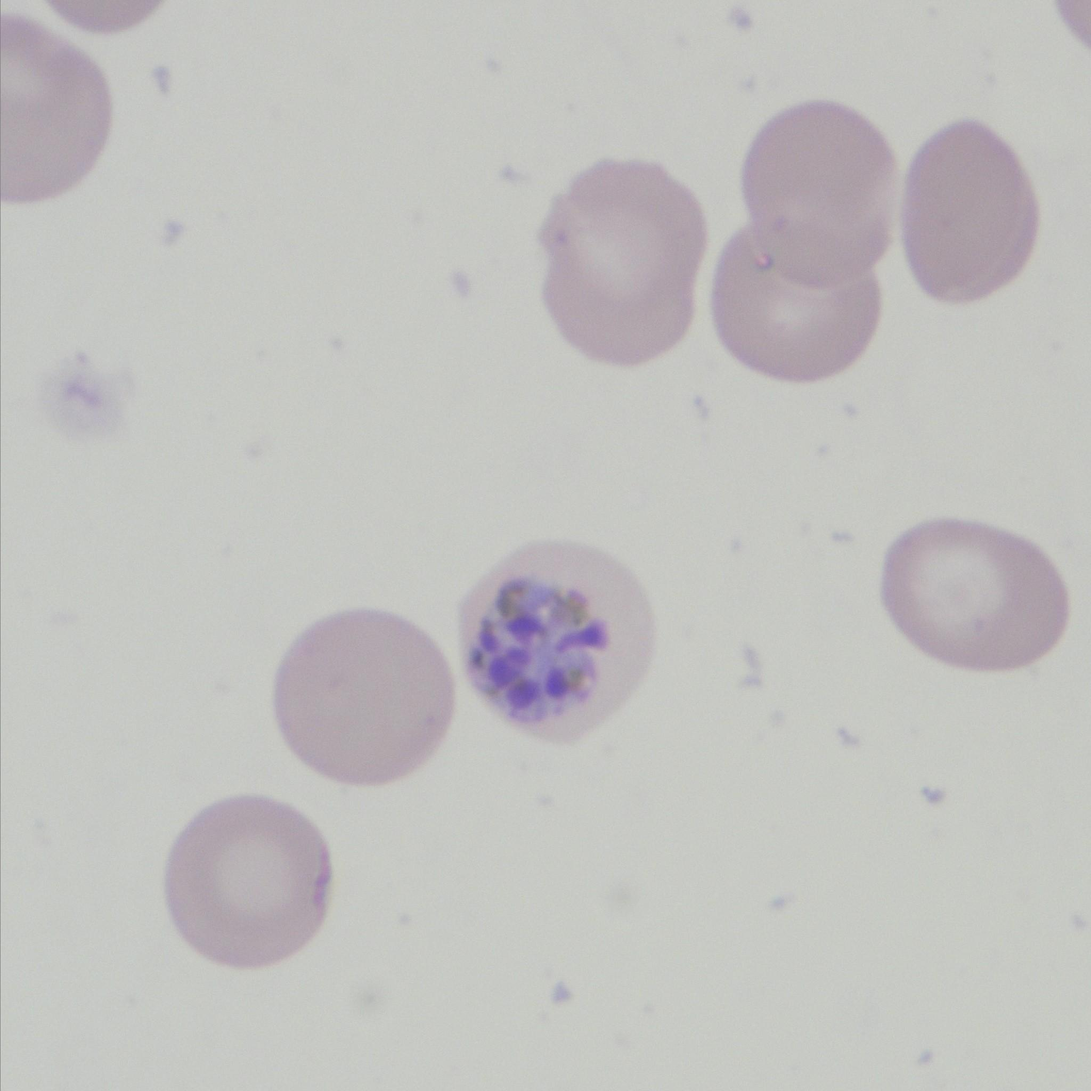Infected: (460, 537, 657, 740)
Uninfected: (277, 608, 443, 784), (163, 799, 333, 969), (879, 517, 1068, 669), (740, 100, 893, 286), (716, 224, 882, 385), (543, 153, 709, 311), (900, 119, 1040, 299), (0, 9, 112, 205), (542, 249, 694, 367)
